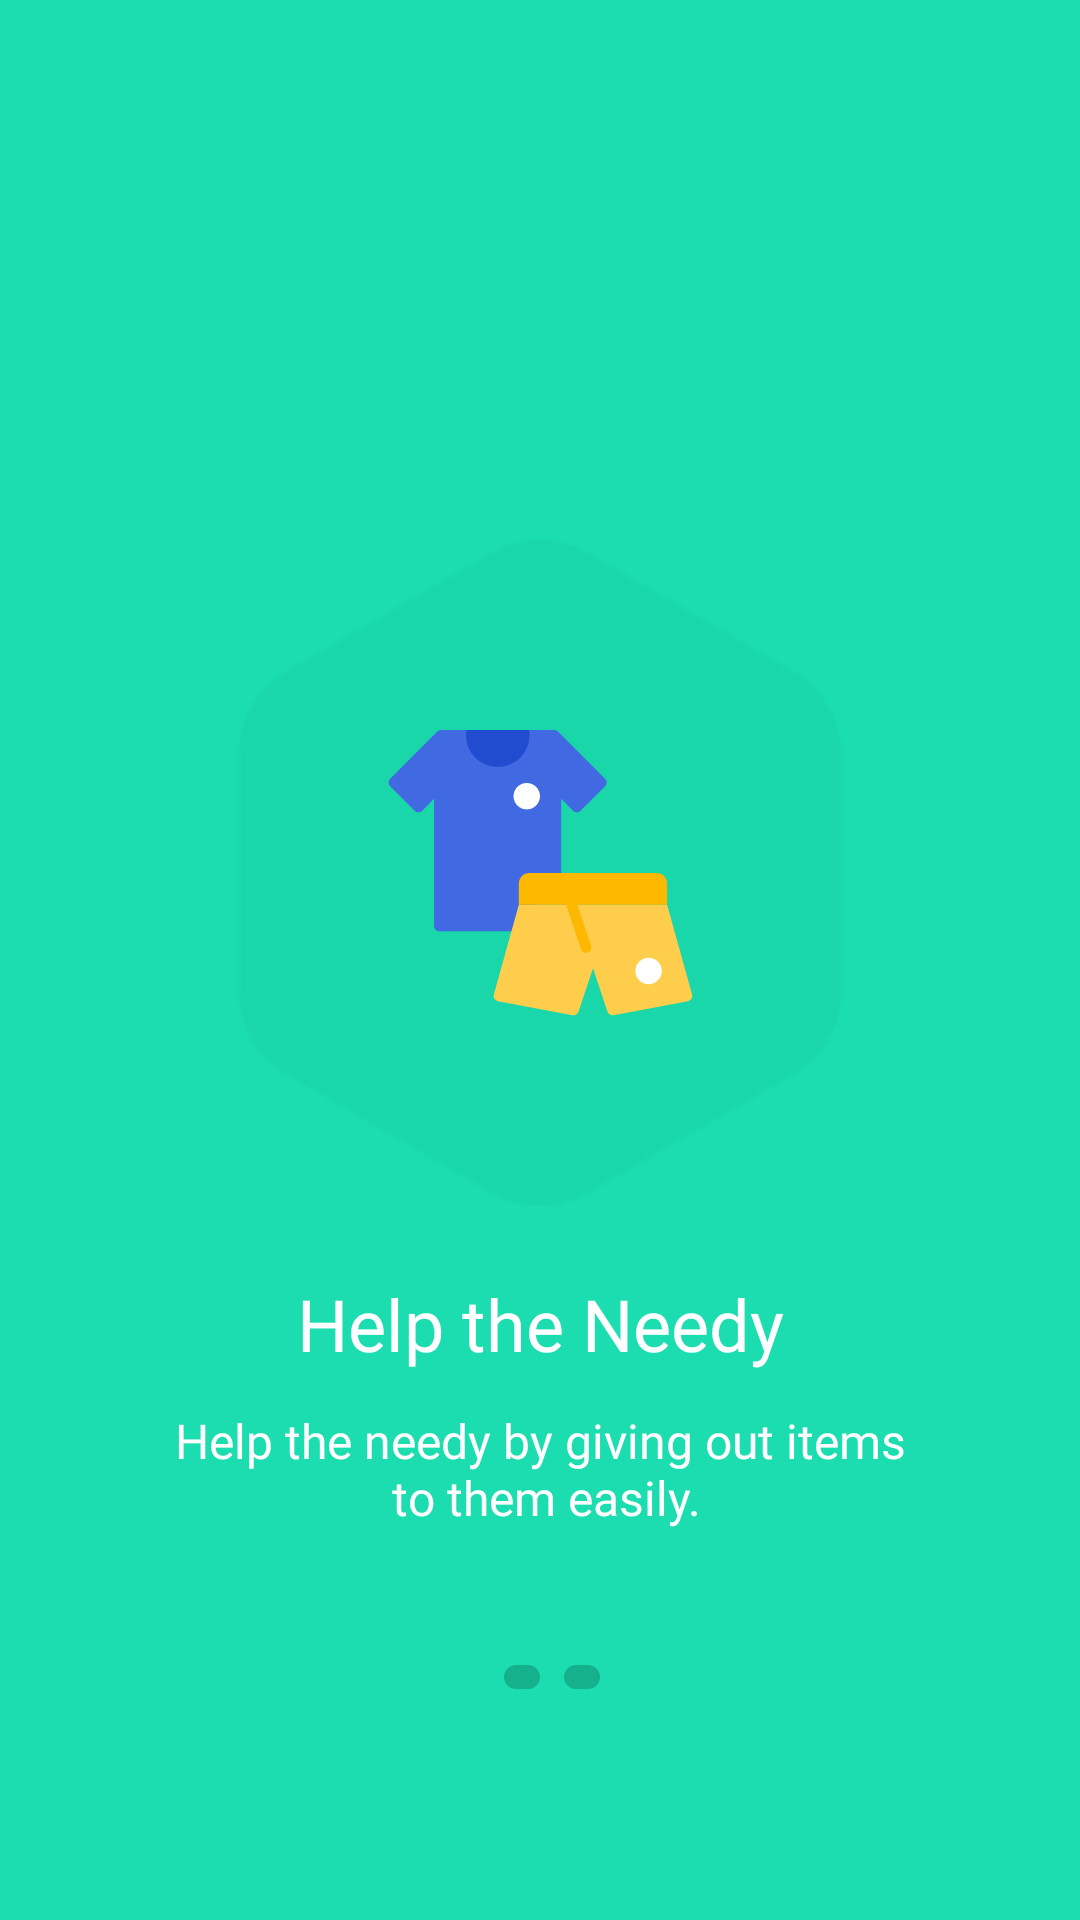

Point at icon controls on the screen. Image size 1080px x 1920px, points as point (x, y).
cloth: point (540, 873)
